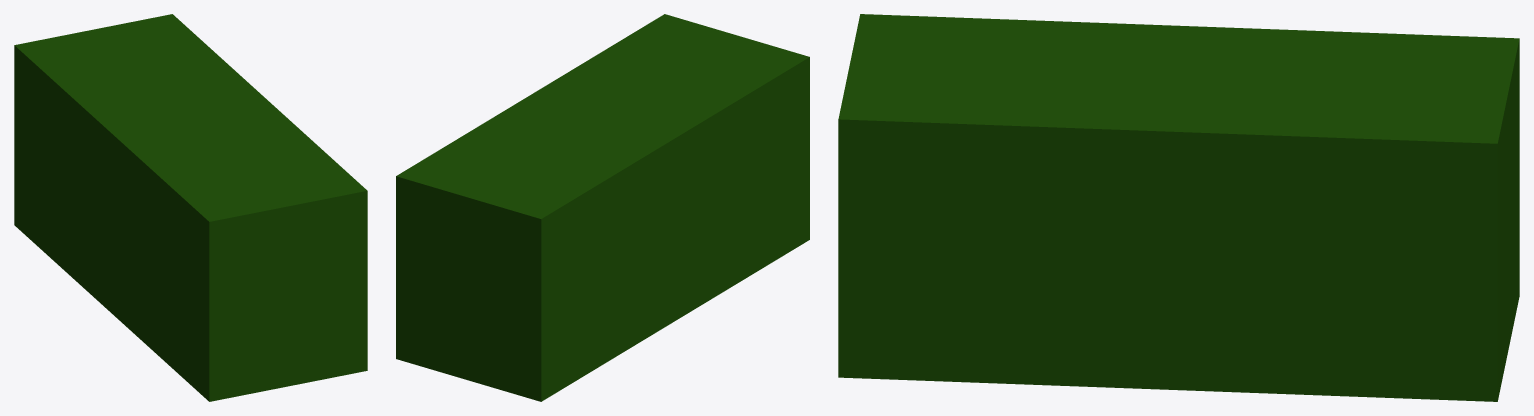
Rendered from GeneratorB.fbx.
The picture shows the model from 3 angles, left to right: view 1: azimuth 30°, elevation 25°; view 2: azimuth 150°, elevation 25°; view 3: azimuth 270°, elevation 25°; orthographic projection. The views are drawn at different scales.
Visible parts, largest first — view 1: GeneratorB; view 2: GeneratorB; view 3: GeneratorB.
Part boxes in pixels (x1,y1,x2,y2): GeneratorB: (14, 14, 367, 401); GeneratorB: (396, 14, 809, 401); GeneratorB: (838, 14, 1519, 401).
Bounding box in the file's own units: 1.57 × 1.46 × 3.48.
